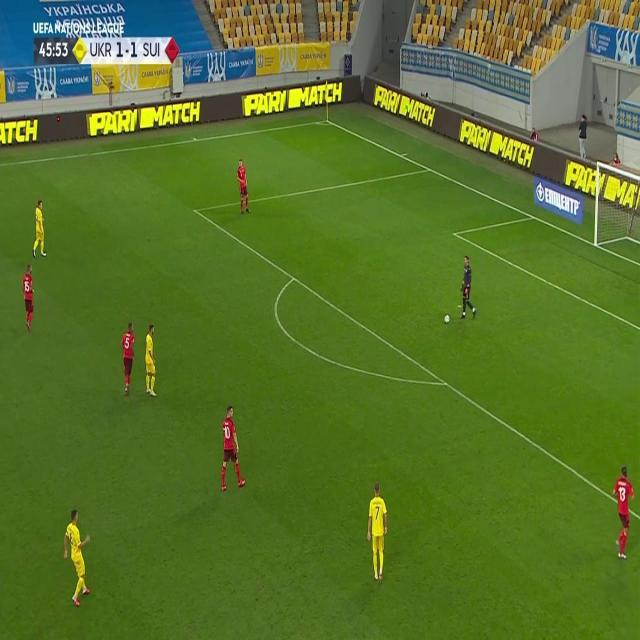ball: (444, 312, 450, 324)
player: (61, 508, 90, 606), (611, 465, 635, 561), (219, 404, 244, 494), (367, 480, 387, 584), (119, 321, 137, 397), (458, 252, 476, 320), (20, 262, 36, 334), (143, 323, 157, 398), (32, 198, 48, 259), (235, 156, 251, 216)
